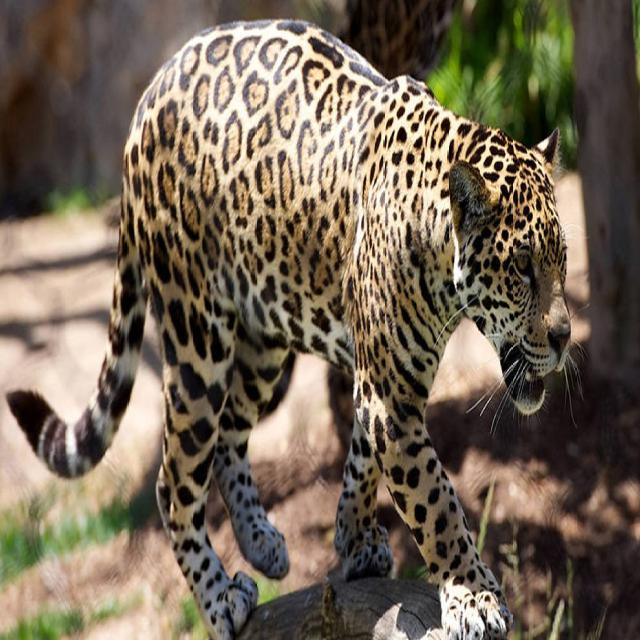Leopard: (7, 29, 572, 639)
